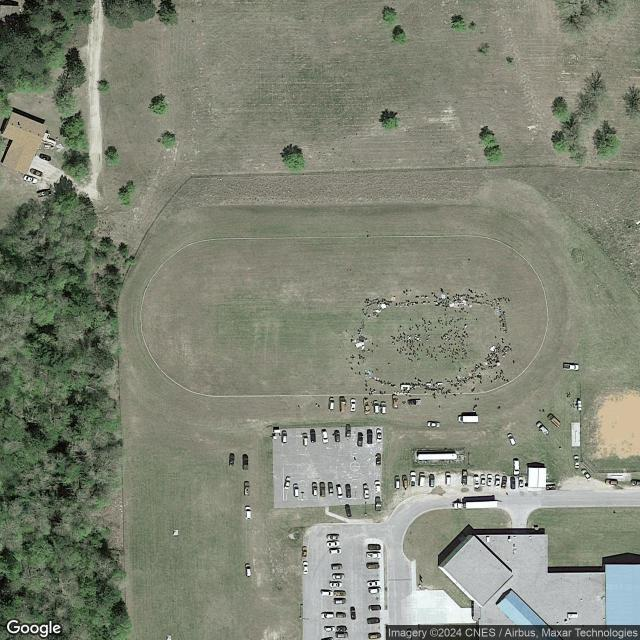Propane: (416, 450, 458, 461)
